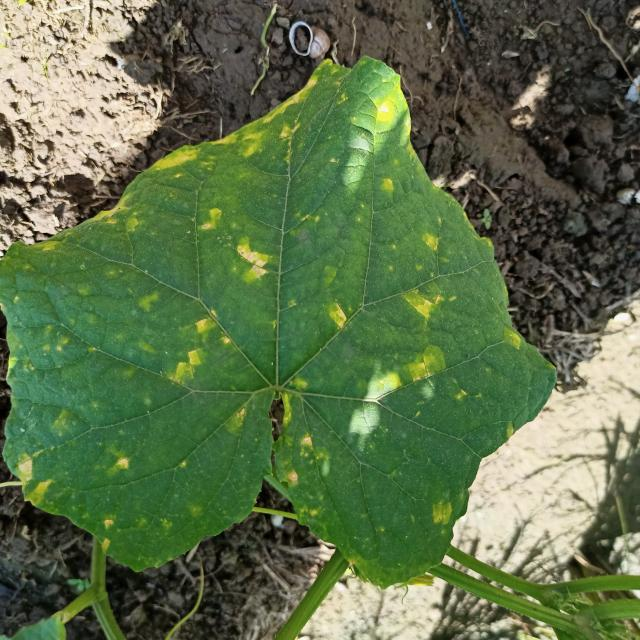disease_cucumber: (8, 61, 537, 570)
